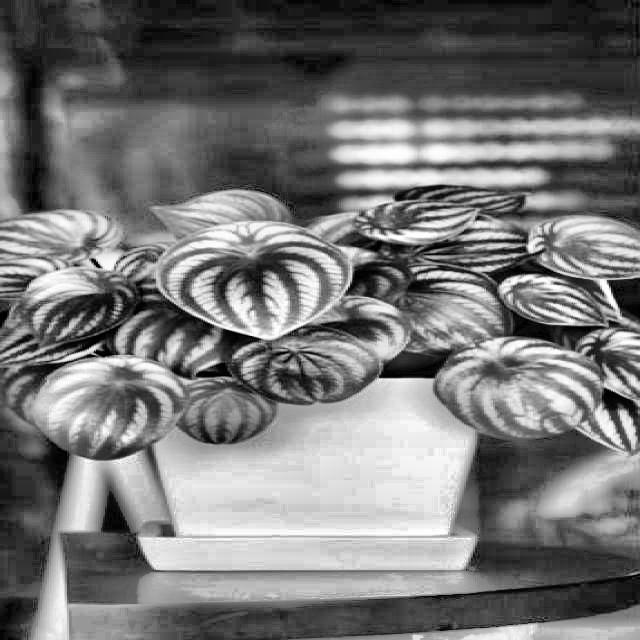plants: (0, 196, 638, 589)
